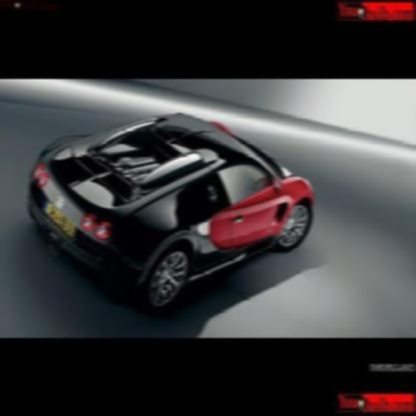Vehicle: (26, 112, 318, 318)
